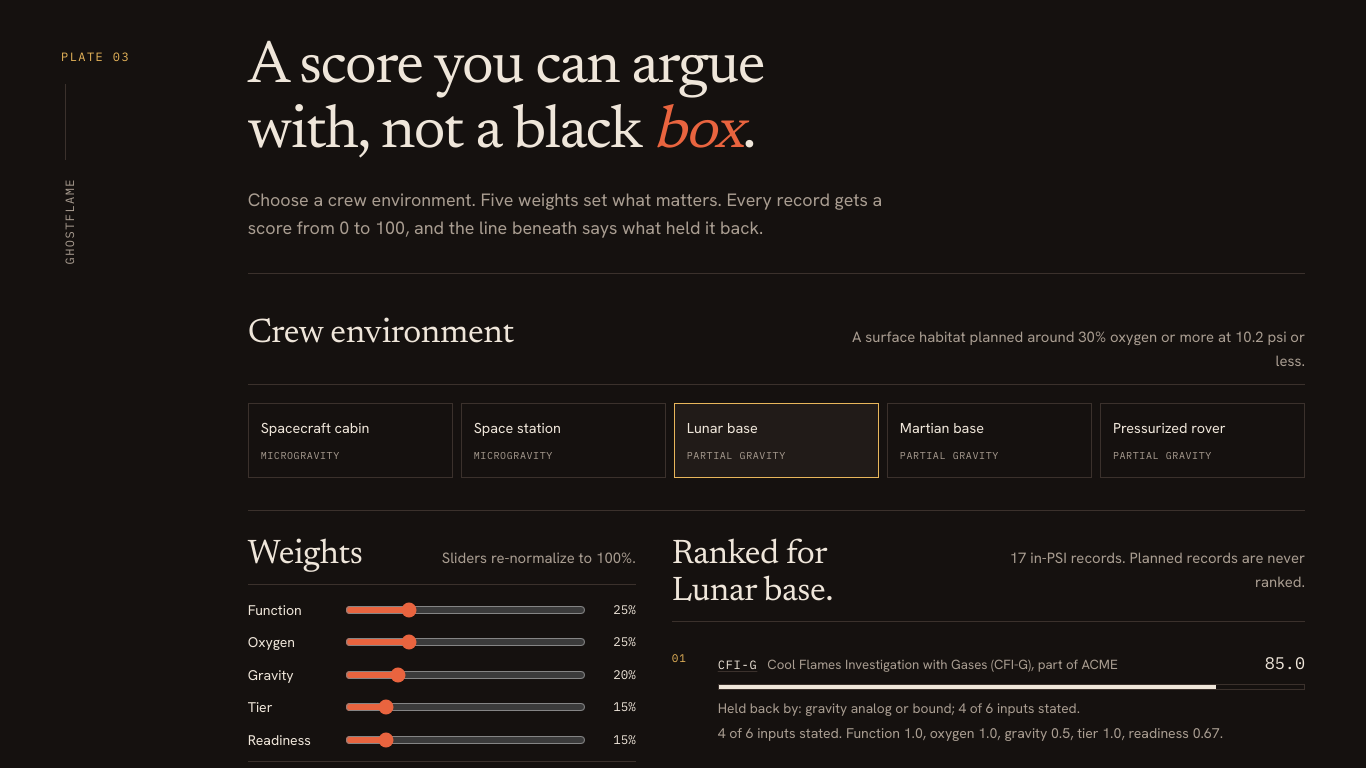
Test case: Crew Fit weights › switches presets with a button
Click the button "Spacecraft cabin microgravity".
click(350, 440)  # box [248, 403, 453, 478]
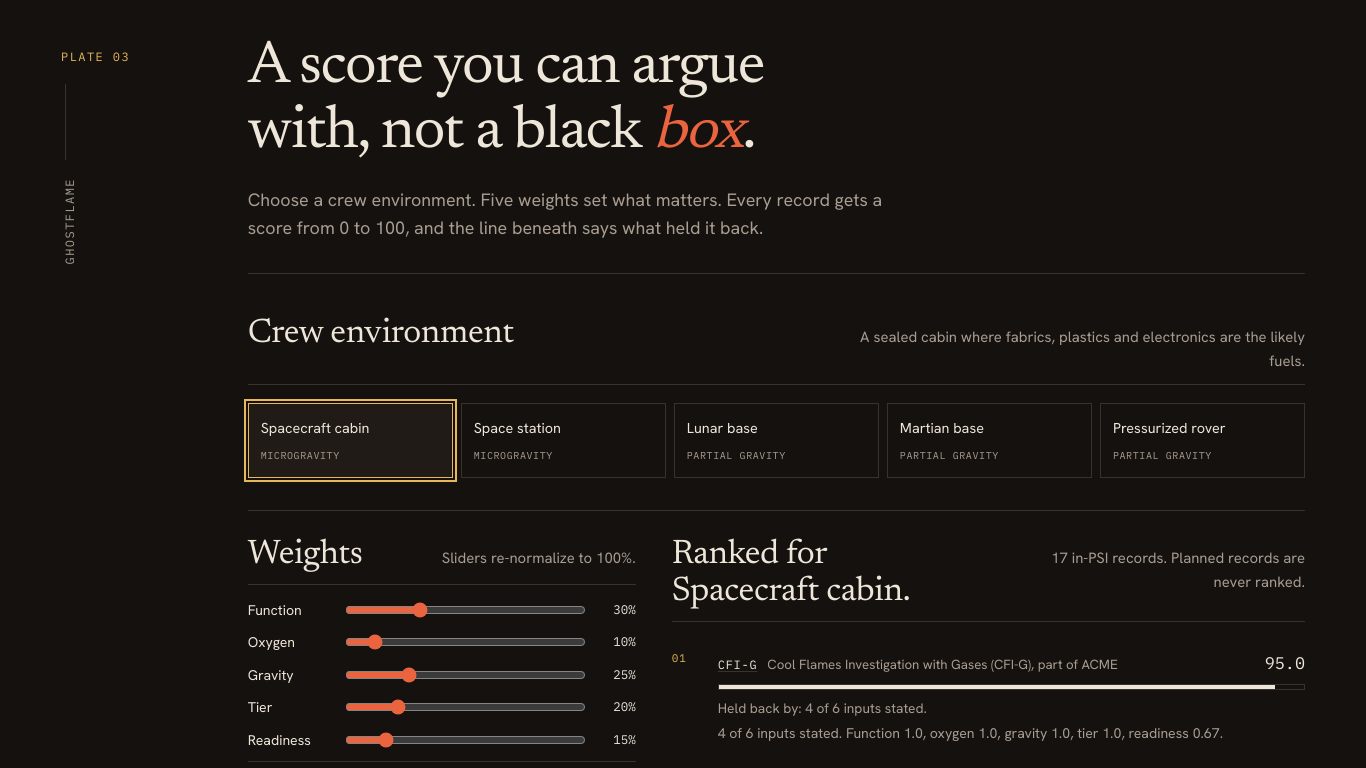
Now the heading "Ranked for Spacecraft cabin." is shown, box [672, 538, 910, 609]
